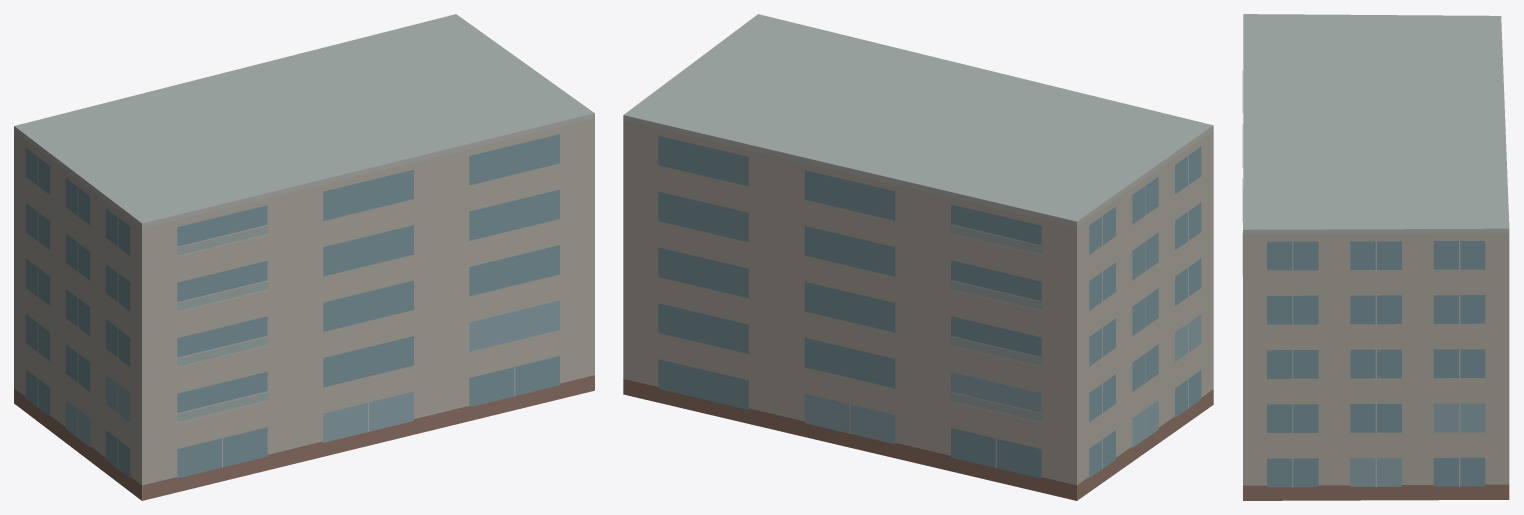
The model's file is survey-upis-32849223.glb.
3 renders of one model, left to right at view 1: azimuth 30°, elevation 25°; view 2: azimuth 150°, elevation 25°; view 3: azimuth 270°, elevation 25°, orthographic. The views are drawn at different scales.
Visible parts, largest first — view 1: survey-upis-32849223.tmp; view 2: survey-upis-32849223.tmp; view 3: survey-upis-32849223.tmp.
Boxes of the visible parts, bbox=[...] form: survey-upis-32849223.tmp: bbox=[14, 14, 594, 500]; survey-upis-32849223.tmp: bbox=[623, 14, 1213, 500]; survey-upis-32849223.tmp: bbox=[1242, 14, 1509, 500].
Size of the model in its own units: 22.03 by 12.9 by 11.52.
